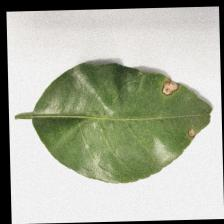canker: (99, 79, 196, 149)
